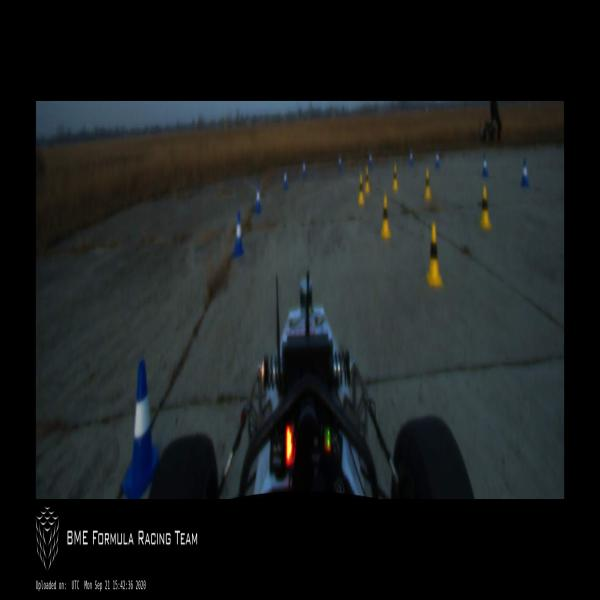blue_cone: (122, 359, 161, 498), (233, 209, 243, 258), (520, 157, 529, 189), (254, 184, 262, 214), (482, 153, 488, 179), (282, 168, 288, 190), (435, 149, 440, 170), (368, 150, 373, 170), (409, 148, 414, 168), (302, 160, 306, 180), (338, 156, 342, 173)
yellow_cone: (426, 222, 443, 289), (479, 188, 492, 230), (381, 190, 391, 238), (424, 169, 432, 200), (358, 176, 364, 205), (392, 164, 398, 190), (365, 167, 370, 194)
